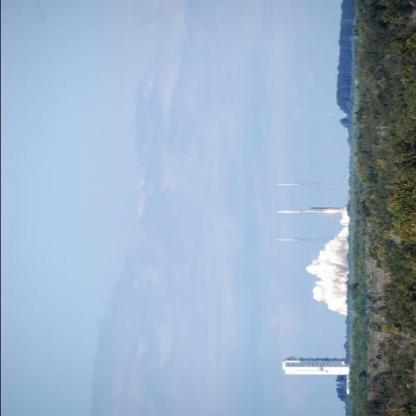MIL_TBM: (273, 208, 326, 216), (274, 182, 302, 187), (274, 238, 300, 242)
